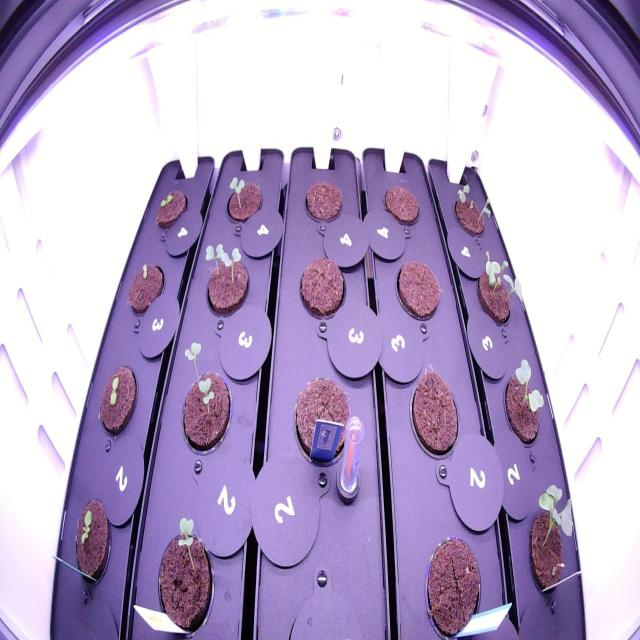germination: (515, 476, 583, 626), (146, 509, 218, 639), (172, 331, 238, 460), (469, 241, 532, 341), (495, 348, 552, 456), (67, 487, 117, 596), (196, 234, 256, 324), (91, 359, 142, 443), (447, 176, 499, 241), (218, 168, 267, 234), (123, 258, 170, 322), (152, 181, 192, 236)
pod: (284, 368, 361, 477), (416, 524, 488, 637), (402, 363, 467, 467), (294, 252, 350, 328), (389, 252, 445, 328), (296, 172, 347, 233), (375, 179, 425, 236)
